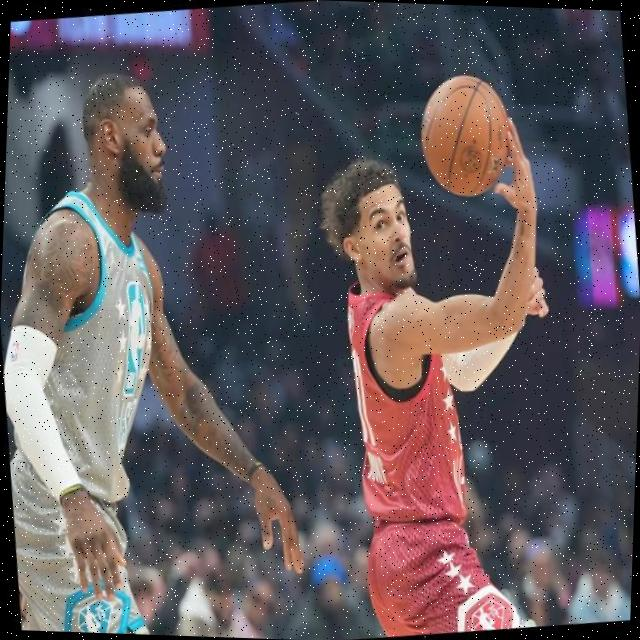ball: (411, 63, 520, 204)
